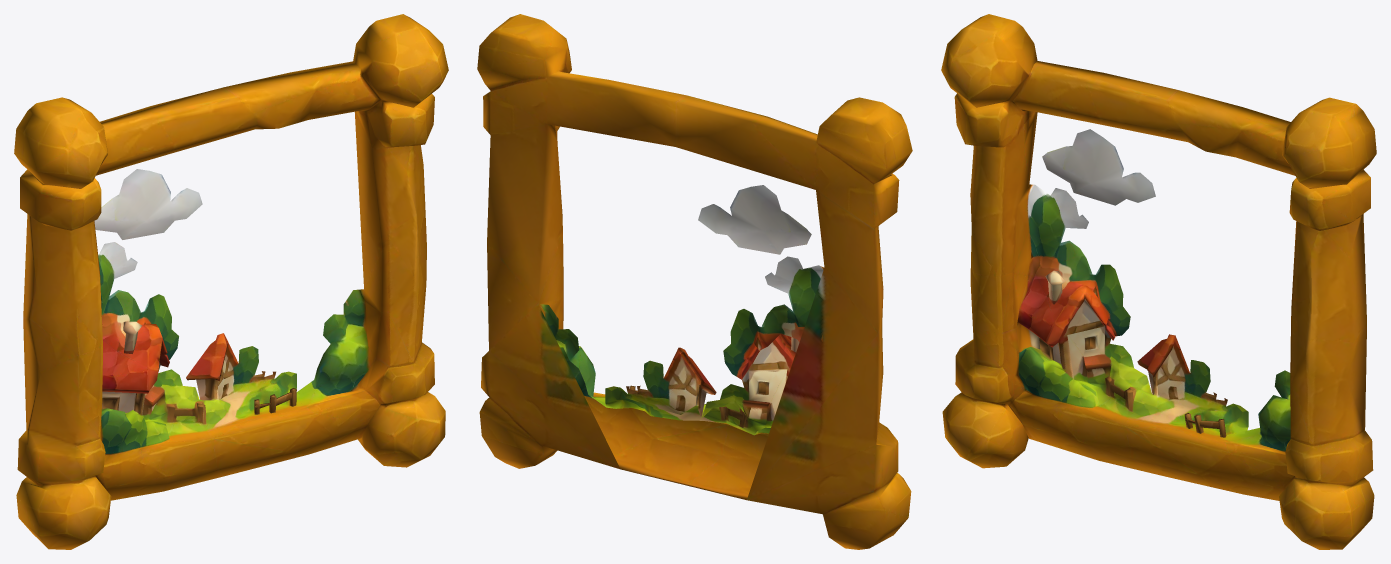
Rendered from tableau.glb.
The picture shows the model from 3 angles, left to right: view 1: azimuth 30°, elevation 25°; view 2: azimuth 150°, elevation 25°; view 3: azimuth 330°, elevation 25°; orthographic projection.
Parts seen in each view (by area): view 1: geometry_0; view 2: geometry_0; view 3: geometry_0.
Boxes of the visible parts, bbox=[...] form: geometry_0: bbox=[14, 14, 448, 549]; geometry_0: bbox=[477, 14, 912, 549]; geometry_0: bbox=[941, 14, 1376, 549].
Bounding box in the file's own units: 0.94 × 0.9526 × 0.1508.
1 material, 1 textured.
